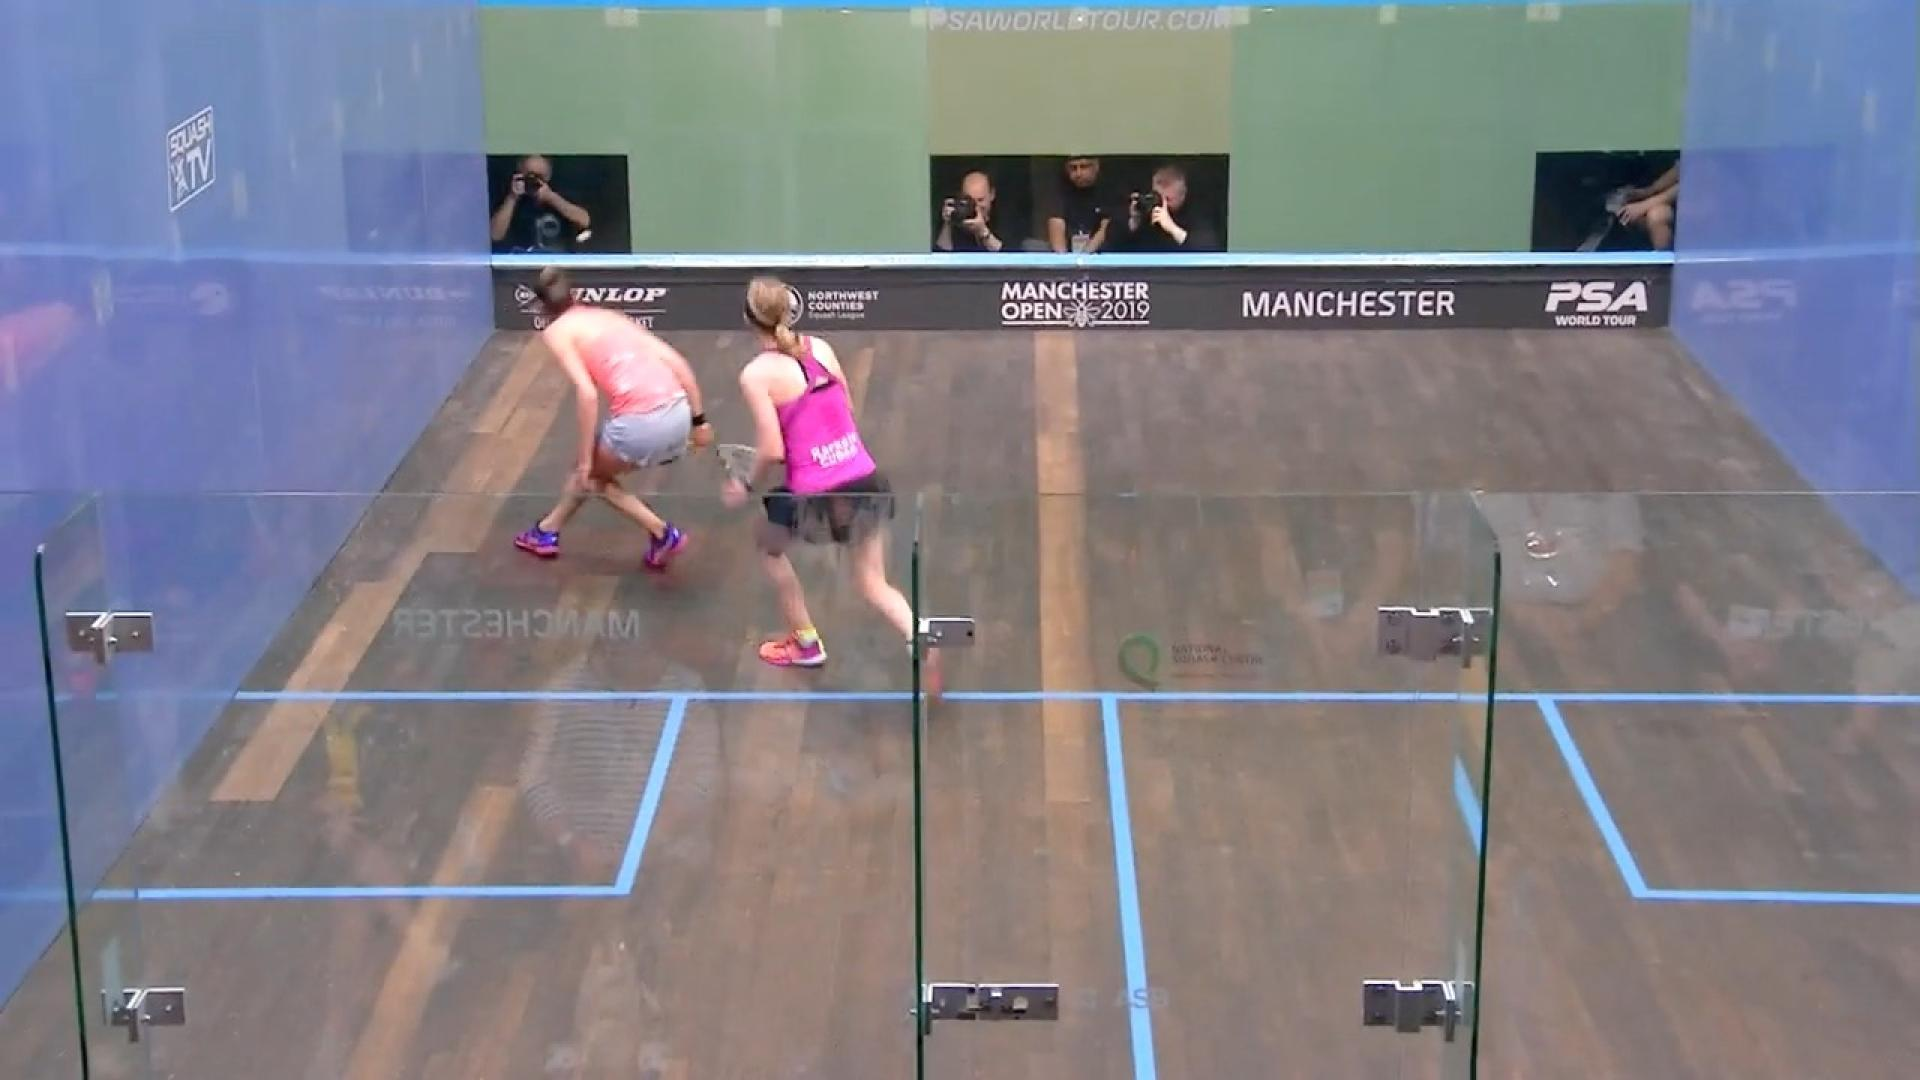Squash-Ball: (559, 210, 603, 262)
